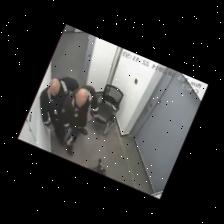person: (58, 85, 97, 154), (39, 77, 78, 135)
